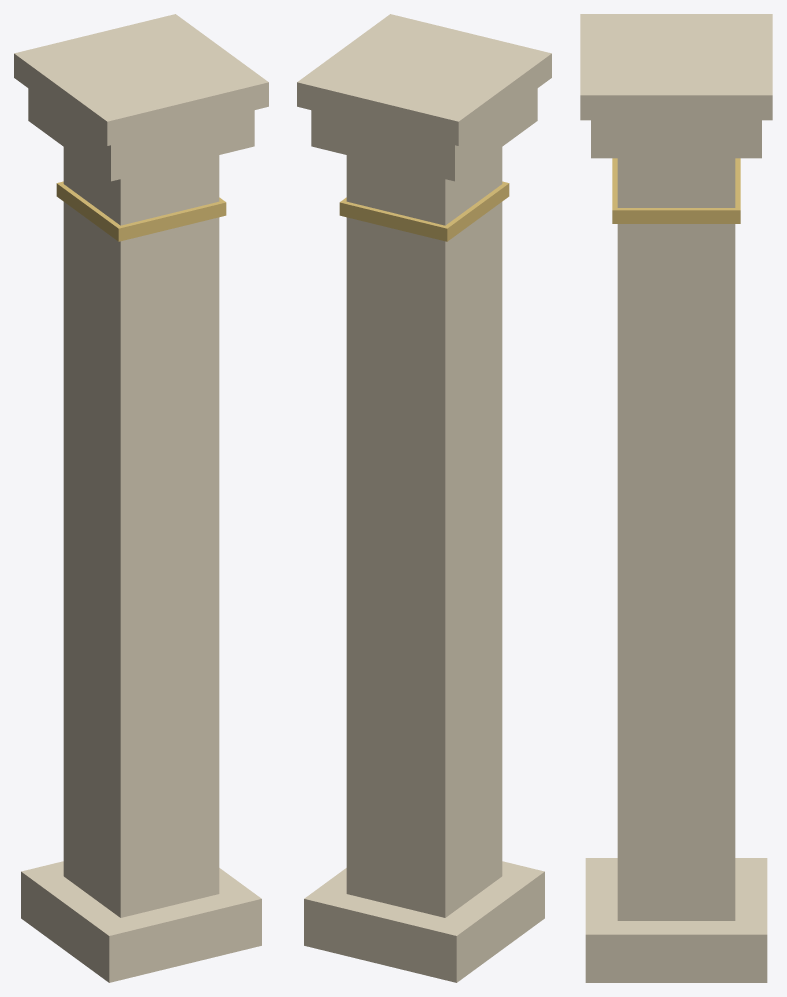
The model's file is legendary-warriors-kit-gallery-column-8367bf60__39225.glb.
The picture shows the model from 3 angles, left to right: view 1: azimuth 30°, elevation 25°; view 2: azimuth 150°, elevation 25°; view 3: azimuth 270°, elevation 25°; orthographic projection. The views are drawn at different scales.
Parts seen in each view (by area): view 1: gallery-column; view 2: gallery-column; view 3: gallery-column.
Part boxes in pixels (x1,y1,x2,y2): gallery-column: [14, 14, 268, 982]; gallery-column: [297, 14, 551, 982]; gallery-column: [580, 14, 772, 982].
Size of the model in its own units: 0.9001 by 4.6 by 0.9001.
